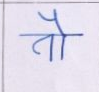au_matra: (45, 10, 69, 59)
